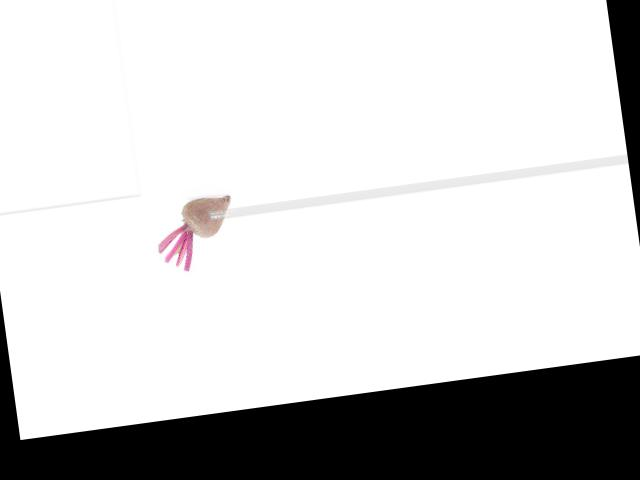beet: (152, 194, 240, 274)
